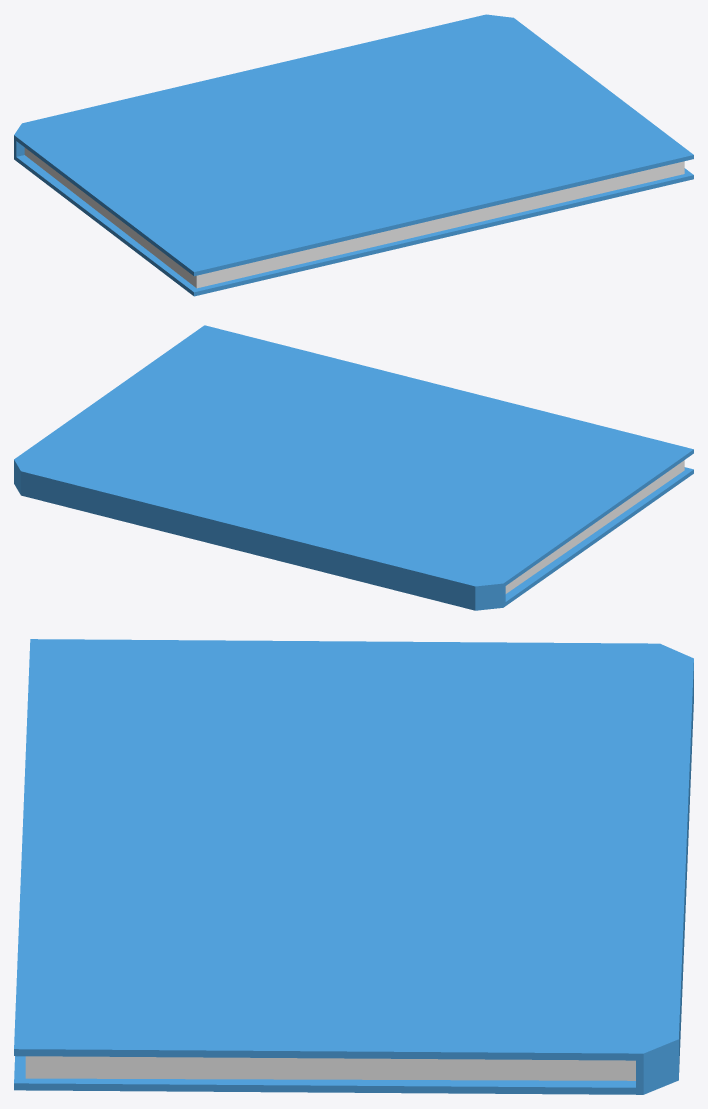
The model's file is Note Book_4.fbx.
The picture shows the model from 3 angles, top to bottom: view 1: azimuth 30°, elevation 25°; view 2: azimuth 150°, elevation 25°; view 3: azimuth 270°, elevation 25°; orthographic projection. The views are drawn at different scales.
Parts seen in each view (by area): view 1: Note Book_4; view 2: Note Book_4; view 3: Note Book_4.
Boxes of the visible parts, x1,y1,x2,y2 form: Note Book_4: [14, 14, 693, 296]; Note Book_4: [14, 325, 693, 610]; Note Book_4: [14, 639, 693, 1094].
Bounding box in the file's own units: 0.2089 × 0.0097 × 0.1448.
